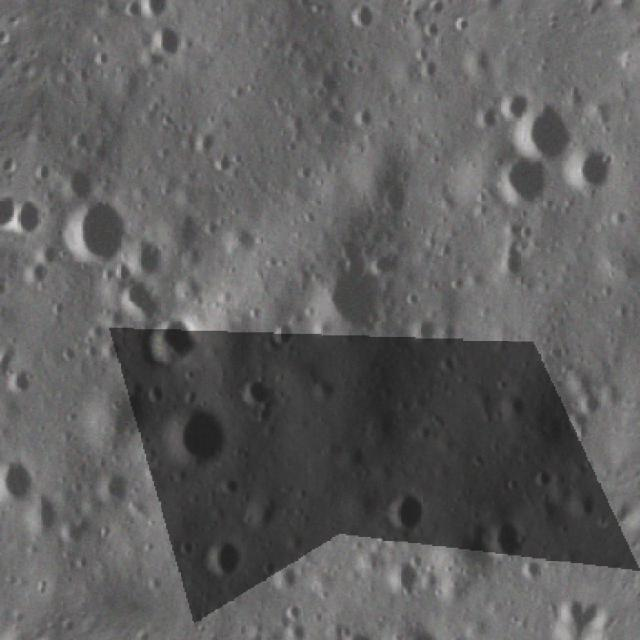crater: (308, 260, 398, 355), (50, 193, 147, 281), (502, 81, 592, 167), (157, 390, 241, 475), (135, 307, 217, 381), (482, 148, 556, 214), (566, 135, 626, 200), (107, 269, 175, 326), (194, 529, 254, 591), (479, 508, 536, 569), (0, 447, 48, 515), (379, 483, 436, 540), (383, 552, 437, 606), (236, 368, 284, 428), (11, 184, 58, 244), (19, 488, 63, 550), (151, 18, 194, 64), (56, 508, 99, 548), (21, 256, 62, 296), (264, 552, 304, 592), (340, 5, 385, 38), (398, 618, 453, 640), (130, 0, 176, 25), (516, 555, 550, 587), (278, 597, 307, 625), (334, 623, 378, 640), (109, 0, 182, 6)
